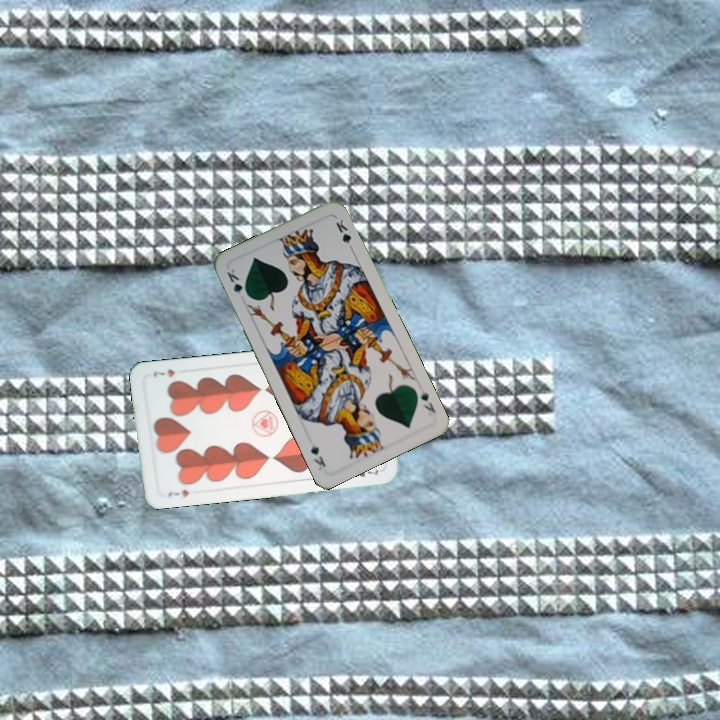GK: (222, 265, 251, 300), (416, 386, 438, 415)
H7: (164, 486, 191, 499)
